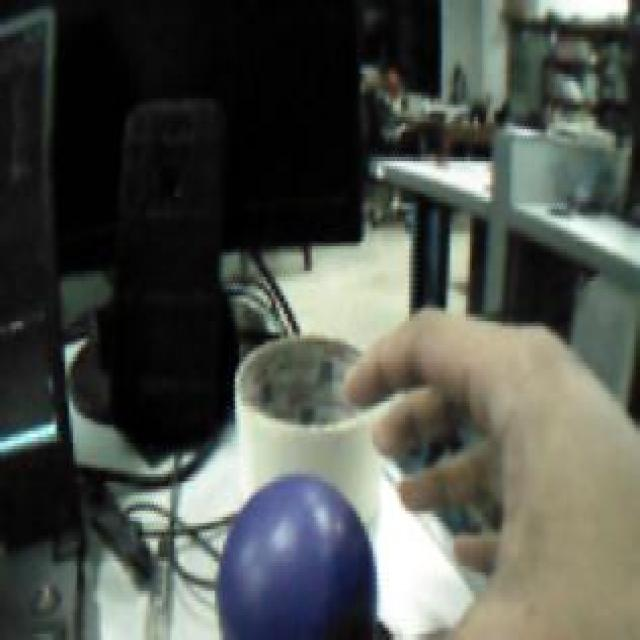BallPurple: (218, 472, 377, 640)
